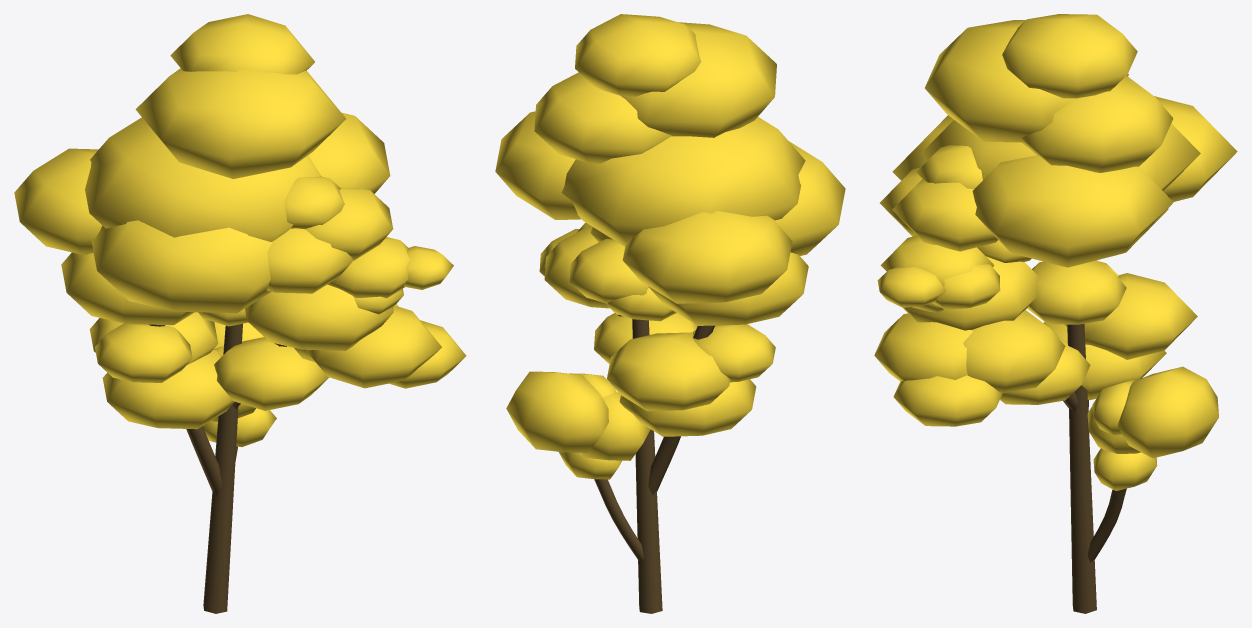
Rendered from Tree_4.fbx.
The picture shows the model from 3 angles, left to right: view 1: azimuth 30°, elevation 25°; view 2: azimuth 150°, elevation 25°; view 3: azimuth 270°, elevation 25°; orthographic projection. The views are drawn at different scales.
Visible parts, largest first — view 1: Cube.003; view 2: Cube.003; view 3: Cube.003.
Boxes of the visible parts, x1,y1,x2,y2 form: Cube.003: (14, 14, 466, 613); Cube.003: (495, 14, 845, 613); Cube.003: (874, 14, 1237, 613).
Size of the model in its own units: 926 by 1680 by 1023.
